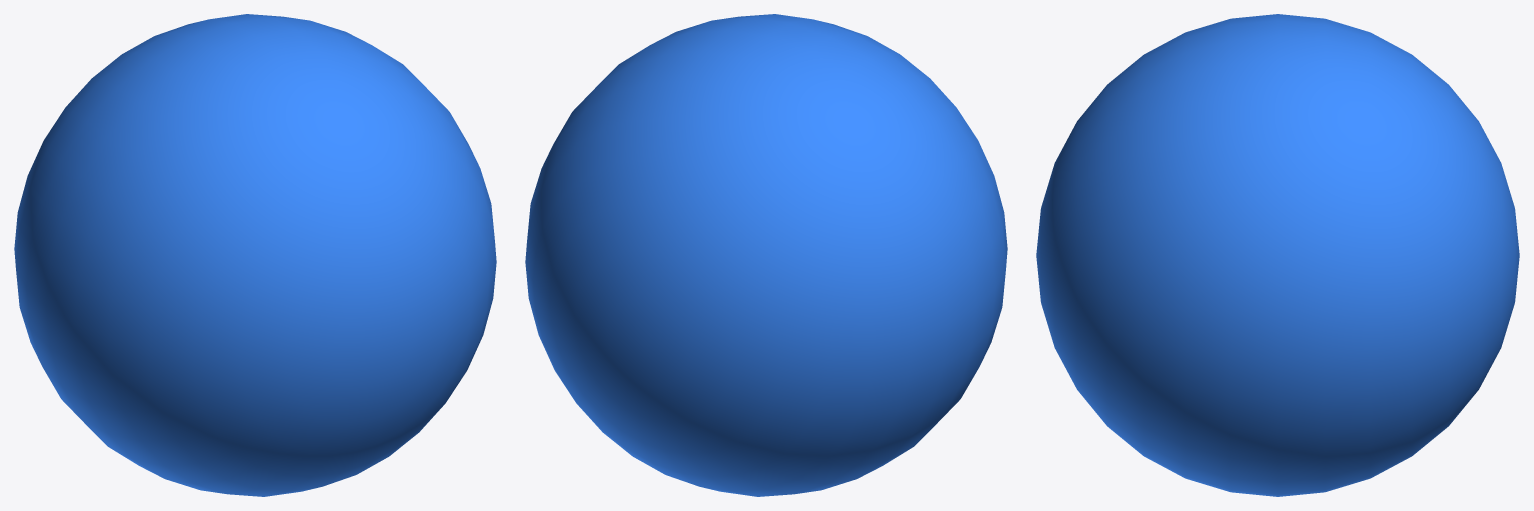
Rendered from SM_ElectricalFieldCandidateV3.obj.
The picture shows the model from 3 angles, left to right: view 1: azimuth 30°, elevation 25°; view 2: azimuth 150°, elevation 25°; view 3: azimuth 270°, elevation 25°; orthographic projection.
Visible parts, largest first — view 1: SM_ElectricalFieldCandidateV3; view 2: SM_ElectricalFieldCandidateV3; view 3: SM_ElectricalFieldCandidateV3.
Part boxes in pixels (bbox=[...]): SM_ElectricalFieldCandidateV3: bbox=[14, 14, 496, 496]; SM_ElectricalFieldCandidateV3: bbox=[525, 14, 1007, 496]; SM_ElectricalFieldCandidateV3: bbox=[1036, 14, 1519, 496].
Bounding box in the file's own units: 200 × 200 × 200.
